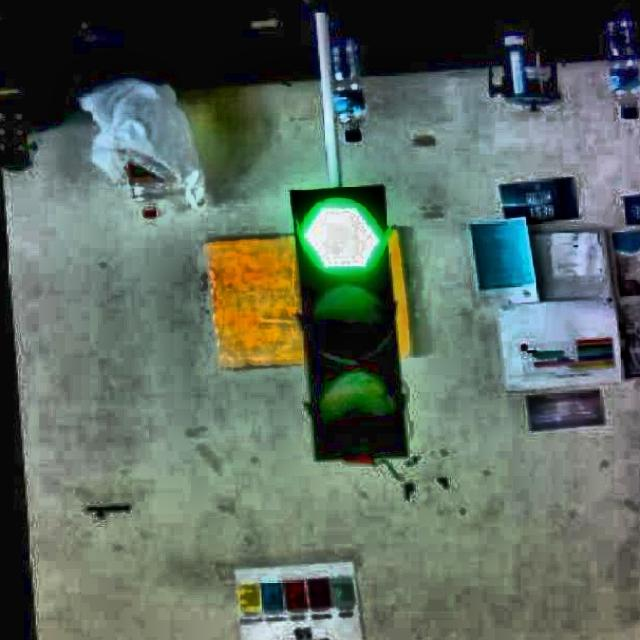green: (298, 182, 395, 466)
